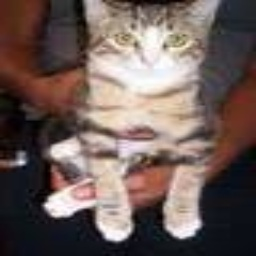cat: (54, 0, 224, 239)
